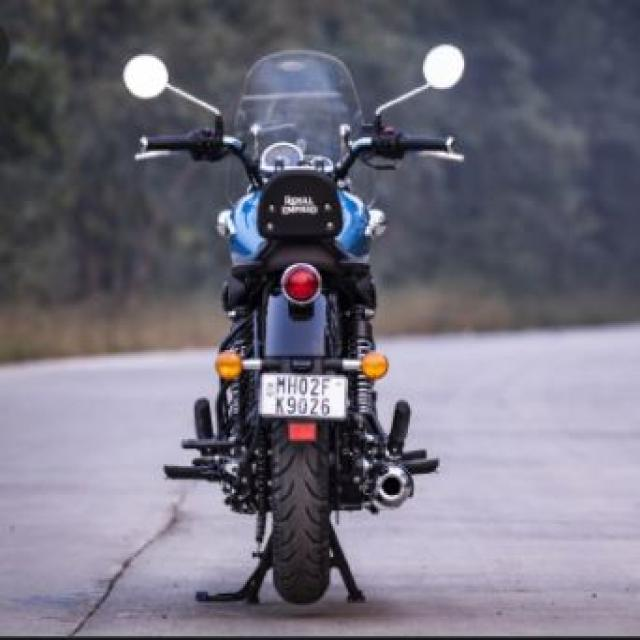number plate: (256, 369, 348, 420)
